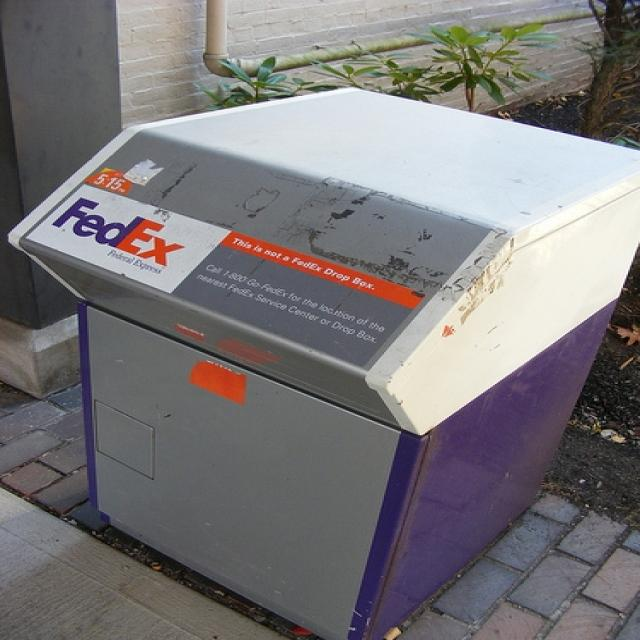fedex: (51, 194, 192, 270)
